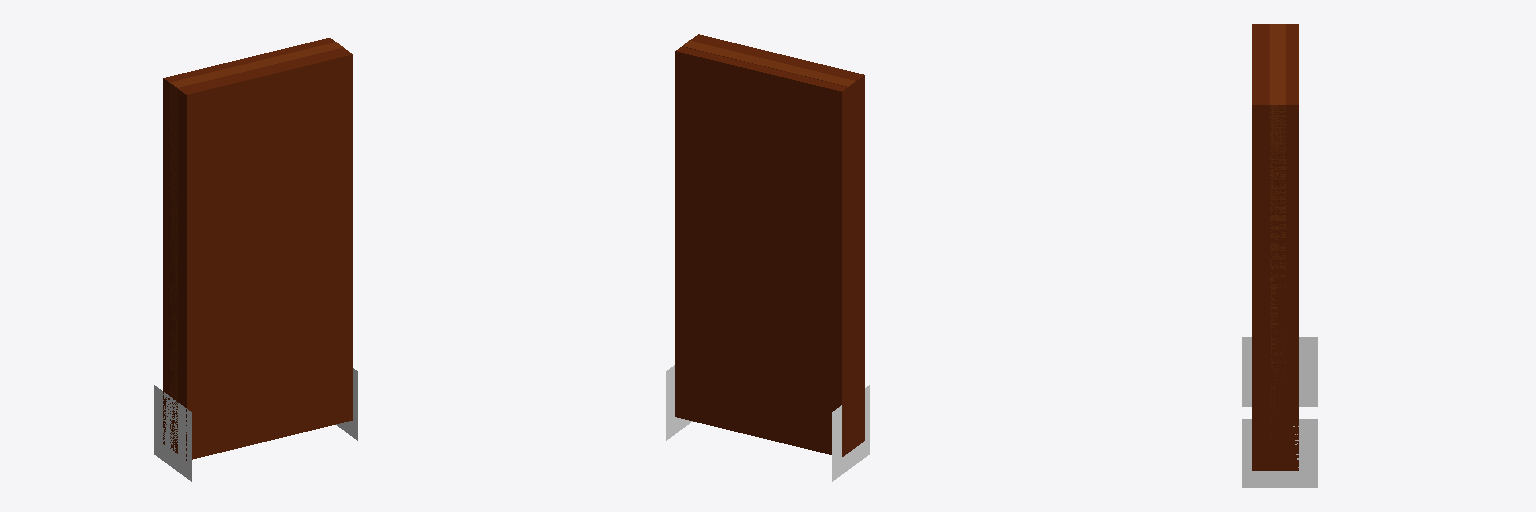
The model's file is door.obj.
3 renders of one model, left to right at view 1: azimuth 30°, elevation 25°; view 2: azimuth 150°, elevation 25°; view 3: azimuth 270°, elevation 25°, orthographic.
Visible parts, largest first — view 1: CTRL_Hole, DoorFrame, CTRL_Baseboard; view 2: CTRL_Hole, CTRL_Baseboard, DoorFrame; view 3: CTRL_Hole, CTRL_Baseboard, DoorFrame.
Part boxes in pixels (x1,y1,x2,y2): CTRL_Hole: (163, 38, 352, 460); DoorFrame: (170, 42, 343, 453); CTRL_Baseboard: (154, 368, 357, 481); CTRL_Hole: (675, 34, 864, 456); CTRL_Baseboard: (666, 365, 869, 481); DoorFrame: (682, 40, 855, 137); CTRL_Hole: (1252, 24, 1298, 470); CTRL_Baseboard: (1242, 337, 1317, 487); DoorFrame: (1270, 24, 1285, 462).
Size of the model in its own units: 1 by 2.2 by 0.4.